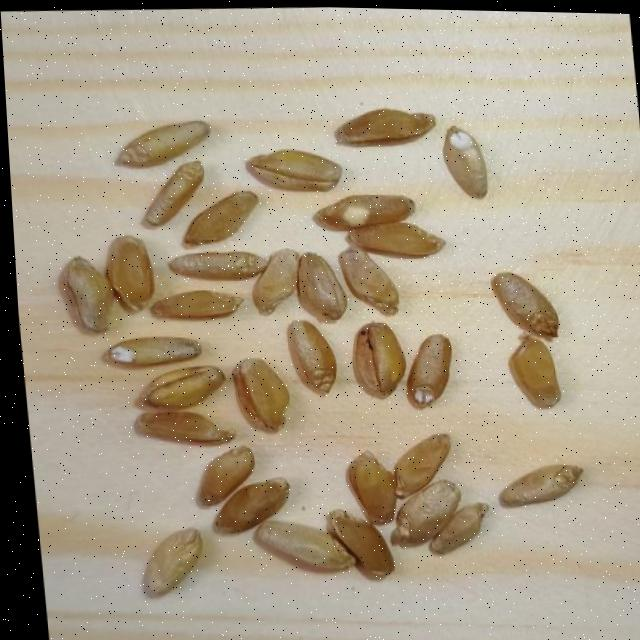wheat_grain: (254, 516, 356, 572), (327, 509, 394, 578), (491, 272, 558, 339), (389, 479, 457, 544), (213, 476, 288, 533), (116, 120, 206, 167), (338, 246, 398, 316), (232, 358, 289, 431), (60, 257, 113, 333), (142, 527, 201, 595), (352, 321, 404, 398), (183, 191, 258, 244), (143, 160, 203, 226), (247, 150, 341, 191), (334, 108, 434, 146), (508, 336, 560, 409), (345, 450, 396, 524), (106, 234, 154, 312), (393, 433, 450, 498), (139, 365, 225, 408), (287, 319, 336, 394), (315, 194, 413, 231), (499, 462, 581, 506), (346, 221, 442, 258), (136, 410, 236, 445), (196, 445, 254, 505), (297, 252, 346, 322), (405, 334, 450, 407), (443, 125, 487, 198), (430, 501, 489, 554), (253, 249, 300, 315), (105, 335, 201, 367), (170, 251, 268, 280), (150, 290, 245, 319)
